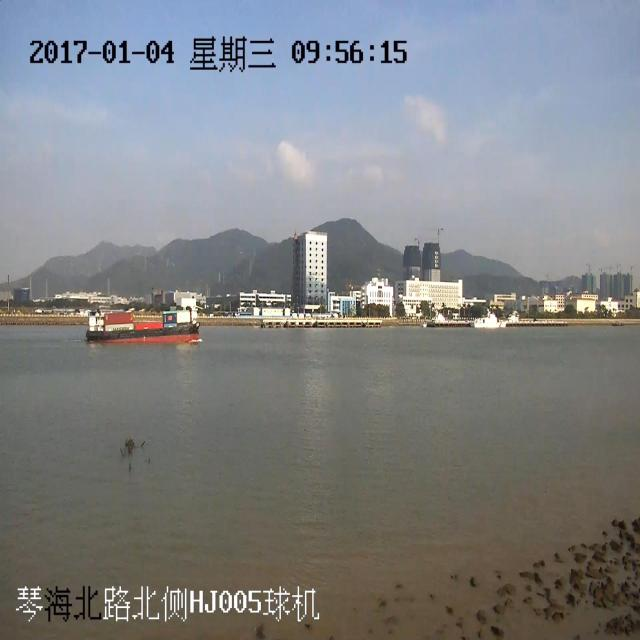cargoship: (79, 282, 211, 363)
